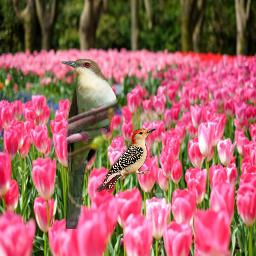Cuckoo: (61, 58, 119, 229)
Woodpecker: (95, 128, 156, 193)
